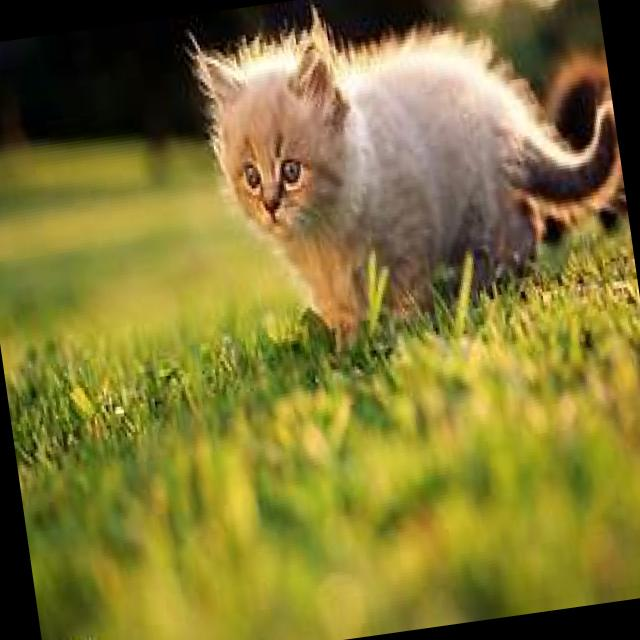animal: (191, 0, 640, 359)
